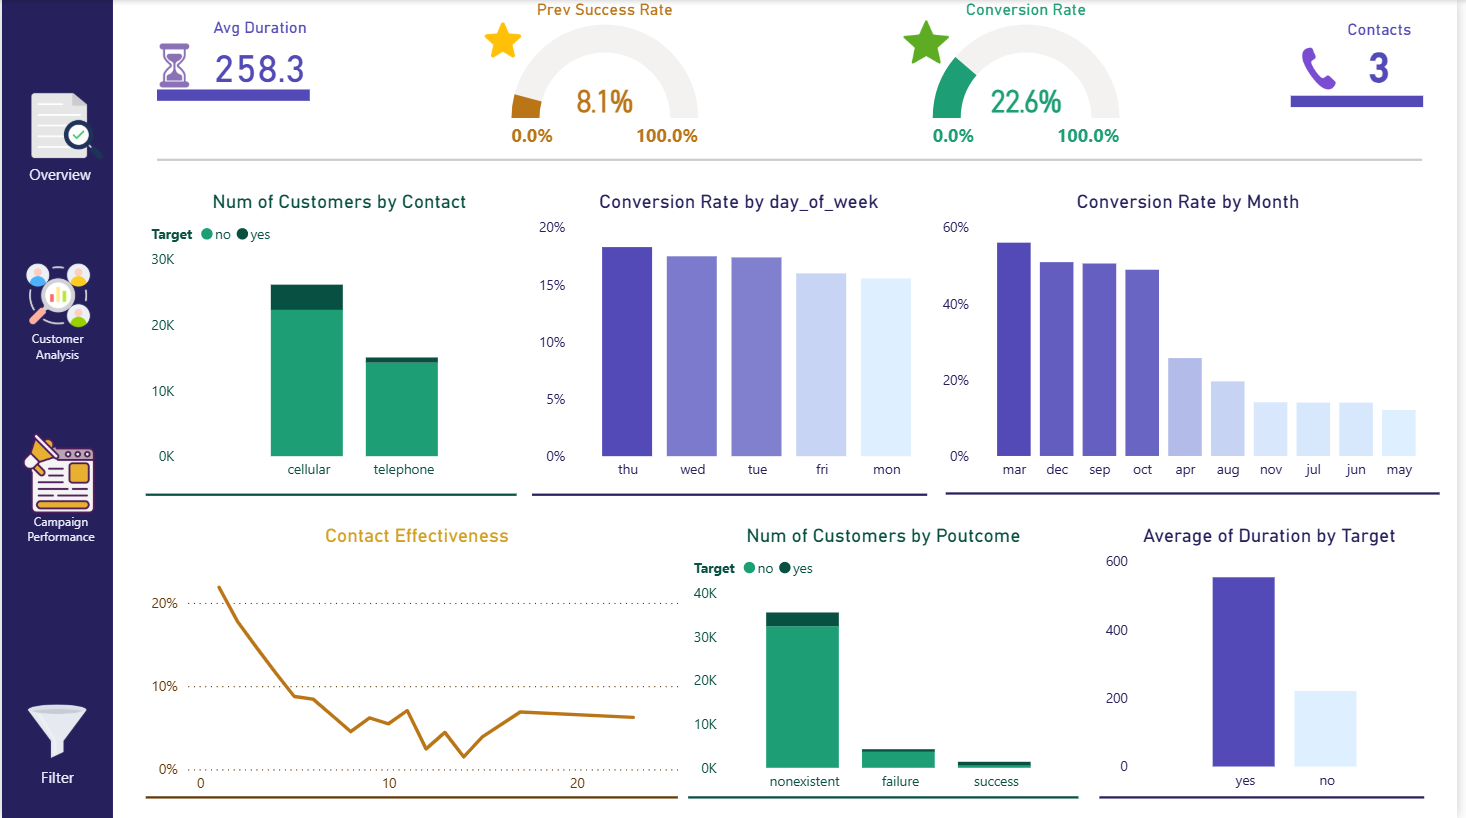

Layout of this report page (visuals, bound fields, positions):
{"tool":"powerbi","page":{"name":"Campaign Performance","canvas":[1280,720],"ordinal":3},"visuals":[{"type":"shape","box":[0,0,97.6,720.2],"z":0,"group":"g1"},{"type":"card","title":"Avg Duration","fields":{"Values":["Fact_Subscription.Avg Duration"]},"box":[156.6,15.3,141.7,68.4],"z":0,"group":"g3"},{"type":"card","title":"Contacts","fields":{"Values":["Fact_Subscription.Avg Contacts"]},"box":[1172.3,18.1,79.2,61.2],"z":0,"group":"g2"},{"type":"clusteredColumnChart","title":"Conversion Rate by Month","fields":{"Category":["Dim_Campaign.month"],"Y":["Fact_Subscription.Conversion Rate"]},"box":[822.5,166.9,441.9,264.2],"z":0},{"type":"shape","box":[136.2,56.1,134.5,55.2],"z":1000,"group":"g3"},{"type":"shape","box":[1133.9,62.5,116.5,55.2],"z":1000,"group":"g2"},{"type":"columnChart","title":"Num of Customers by Contact ","fields":{"Category":["Dim_Campaign.contact"],"Y":["CountNonNull(Fact_Subscription.ContactID)"],"Series":["Fact_Subscription.Target"]},"box":[126.6,167,340.9,264.3],"z":1000},{"type":"image","box":[15.6,220.9,68.4,78],"z":1000,"group":"g1"},{"type":"image","box":[126.6,30.9,50.4,52.8],"z":2000,"group":"g3"},{"type":"image","box":[1133.9,37.3,49.2,48],"z":2000,"group":"g2"},{"type":"clusteredColumnChart","fields":{"Y":["Fact_Subscription.Conversion Rate"],"Category":["Dim_Campaign.day_of_week"]},"box":[467.5,167,361.7,264.3],"z":2000},{"type":"image","box":[8.4,372.2,82.9,87.7],"z":2000,"group":"g1"},{"type":"columnChart","title":"Num of Customers by Poutcome","fields":{"Y":["CountNonNull(Fact_Subscription.ContactID)"],"Series":["Fact_Subscription.Target"],"Category":["Dim_Campaign.poutcome"]},"box":[603.8,460.5,343.7,244.9],"z":3000},{"type":"image","box":[7.1,603.6,84.5,79.8],"z":3000,"group":"g1"},{"type":"image","box":[19.2,74.4,78,73.2],"z":4000,"group":"g1"},{"type":"clusteredColumnChart","fields":{"Category":["Fact_Subscription.Target"],"Y":["Avg(Fact_Subscription.Duration)"]},"box":[965.4,461.1,299,243.8],"z":4000},{"type":"lineChart","title":"Contact Effectiveness","fields":{"Category":["Fact_Subscription.Campaign"],"Y":["Fact_Subscription.Conversion Rate"]},"box":[126.6,460.5,477.2,246.3],"z":5000},{"type":"group","id":"g1","title":"bar","box":[0,0,97.6,720.2],"z":6000},{"type":"group","id":"g2","title":"Group 4","box":[1133.9,18.1,116.9,98.8],"z":7000},{"type":"group","id":"g3","title":"Group 3","box":[126.6,15.3,171.1,96],"z":8000},{"type":"gauge","fields":{"Y":["Fact_Subscription.Conversion Rate"]},"box":[763.4,0,275.5,140.5],"z":9000},{"type":"gauge","fields":{"Y":["Fact_Subscription.Prev Success Rate"]},"box":[392.8,0,275.5,140.5],"z":10000},{"type":"image","box":[396.2,14.7,89,41.7],"z":11000},{"type":"image","box":[763.8,12.5,97.4,50.1],"z":12000},{"type":"shape","box":[136.9,123.7,1113.1,34.8],"z":13000},{"type":"shape","box":[829.8,415.5,434.5,36.9],"z":14000},{"type":"shape","box":[466.7,416.7,347.6,36.9],"z":15000},{"type":"shape","box":[126.2,416.7,326.2,36.9],"z":16000},{"type":"shape","box":[604,683.2,343.4,37.2],"z":17000},{"type":"shape","box":[965.4,683.2,285.8,37.2],"z":18000},{"type":"shape","box":[126.1,683.2,468.3,37.2],"z":19000},{"type":"shape","box":[22.6,136.9,56,29.8],"z":21000},{"type":"shape","box":[21.4,447.6,61.9,34.5],"z":22000},{"type":"shape","box":[21.4,289.3,56,29.8],"z":23000},{"type":"shape","box":[21.4,669.1,56,28.6],"z":24000}]}

Visuals, with their boxes on the page's 1280x720 design canvas (x1, y1, x2, y2). These are canvas units, not pixel positions in the 1466x818 screenshot, which may show the page scaled, cropped or inside an application window:
shape: region(0, 0, 98, 720)
"Avg Duration" card: region(157, 15, 298, 84)
"Contacts" card: region(1172, 18, 1252, 79)
"Conversion Rate by Month" clusteredColumnChart: region(822, 167, 1264, 431)
shape: region(136, 56, 271, 111)
shape: region(1134, 62, 1250, 118)
"Num of Customers by Contact " columnChart: region(127, 167, 468, 431)
image: region(16, 221, 84, 299)
image: region(127, 31, 177, 84)
image: region(1134, 37, 1183, 85)
clusteredColumnChart - Fact_Subscription.Conversion Rate x Dim_Campaign.day_of_week: region(468, 167, 829, 431)
image: region(8, 372, 91, 460)
"Num of Customers by Poutcome" columnChart: region(604, 460, 948, 705)
image: region(7, 604, 92, 683)
image: region(19, 74, 97, 148)
clusteredColumnChart - Fact_Subscription.Target x Avg(Fact_Subscription.Duration): region(965, 461, 1264, 705)
"Contact Effectiveness" lineChart: region(127, 460, 604, 707)
"bar" group: region(0, 0, 98, 720)
"Group 4" group: region(1134, 18, 1251, 117)
"Group 3" group: region(127, 15, 298, 111)
gauge - Fact_Subscription.Conversion Rate: region(763, 0, 1039, 140)
gauge - Fact_Subscription.Prev Success Rate: region(393, 0, 668, 140)
image: region(396, 15, 485, 56)
image: region(764, 12, 861, 63)
shape: region(137, 124, 1250, 158)
shape: region(830, 416, 1264, 452)
shape: region(467, 417, 814, 454)
shape: region(126, 417, 452, 454)
shape: region(604, 683, 947, 720)
shape: region(965, 683, 1251, 720)
shape: region(126, 683, 594, 720)
shape: region(23, 137, 79, 167)
shape: region(21, 448, 83, 482)
shape: region(21, 289, 77, 319)
shape: region(21, 669, 77, 698)
